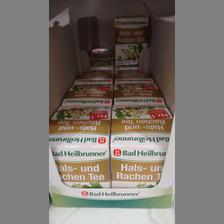Tee: (48, 104, 110, 186), (110, 103, 170, 187), (114, 14, 150, 66)
